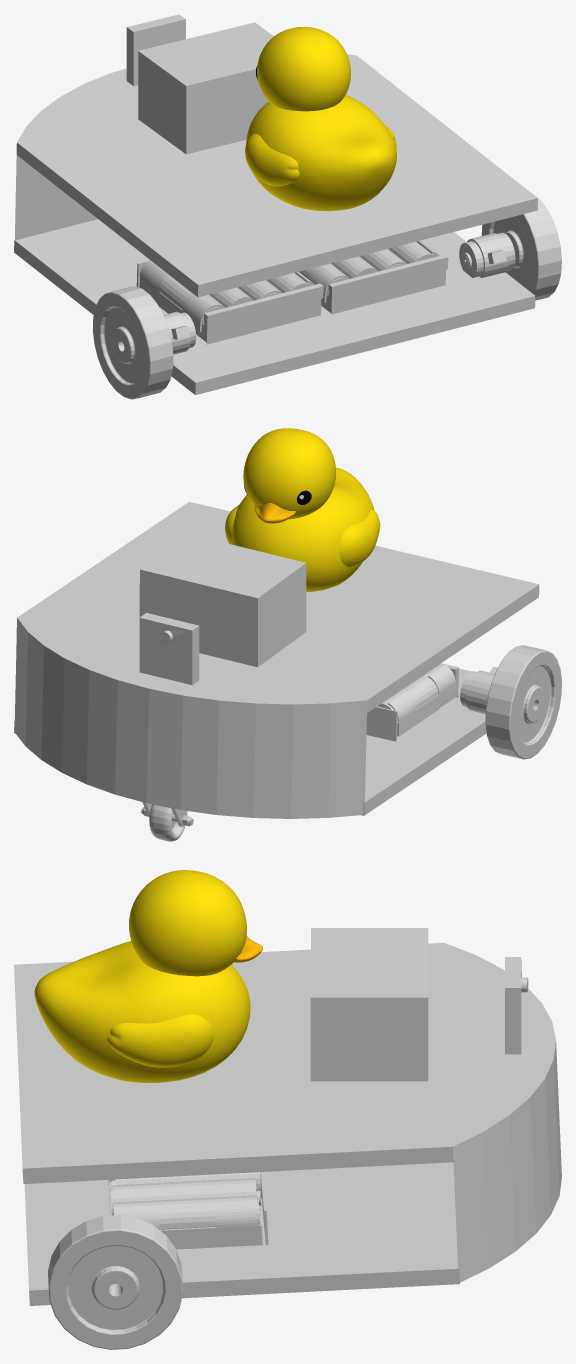
File: ducky_colored.dae
3 renders of one model, top to bottom at view 1: azimuth 30°, elevation 25°; view 2: azimuth 150°, elevation 25°; view 3: azimuth 270°, elevation 25°, orthographic. The views are drawn at different scales.
Visible parts, largest first — view 1: node, group_2, group_5, instance_0; view 2: node, group_2, group_5, instance_0, group_1; view 3: node, group_2, group_5, instance_1.
Part boxes in pixels (bbox=[...]): node: bbox=[14, 14, 561, 399]; group_2: bbox=[246, 94, 396, 211]; group_5: bbox=[257, 26, 350, 111]; instance_0: bbox=[245, 133, 299, 186]; node: bbox=[14, 501, 561, 841]; group_2: bbox=[231, 467, 374, 591]; group_5: bbox=[243, 428, 335, 519]; instance_0: bbox=[339, 509, 380, 567]; group_1: bbox=[254, 503, 295, 523]; node: bbox=[14, 928, 561, 1349]; group_2: bbox=[34, 941, 250, 1082]; group_5: bbox=[129, 870, 246, 976]; instance_1: bbox=[107, 1014, 213, 1067].
Size of the model in its own units: 1.21 by 1.12 by 0.8359.
3 materials, 1 textured.
